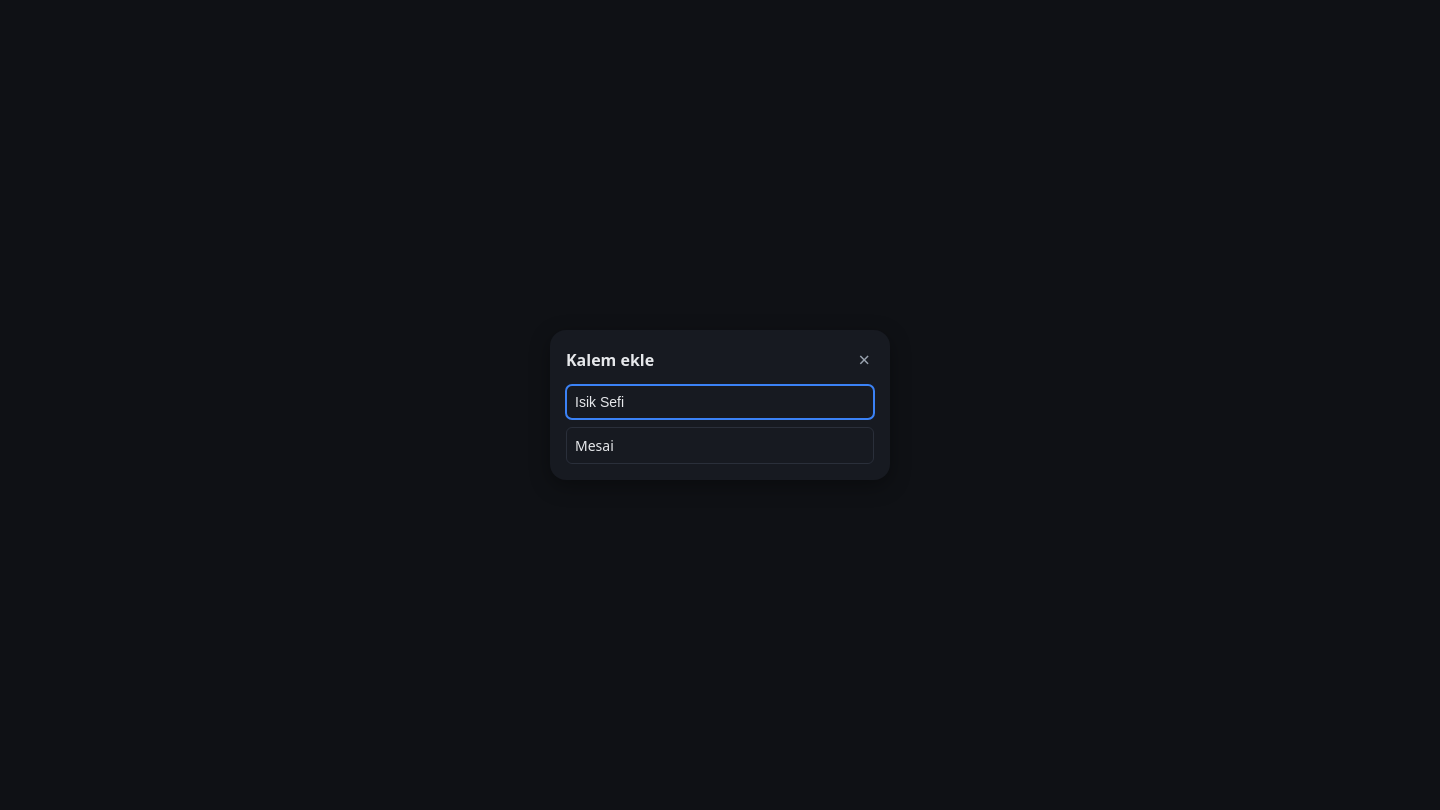
Test: Kime? zimba (1500 Dilim 2a-3b) › asksPerson secenegi bos kisi listesinde eski metni gosterir
Click the button "Mesai": x=594, y=446 [567, 428, 873, 463]
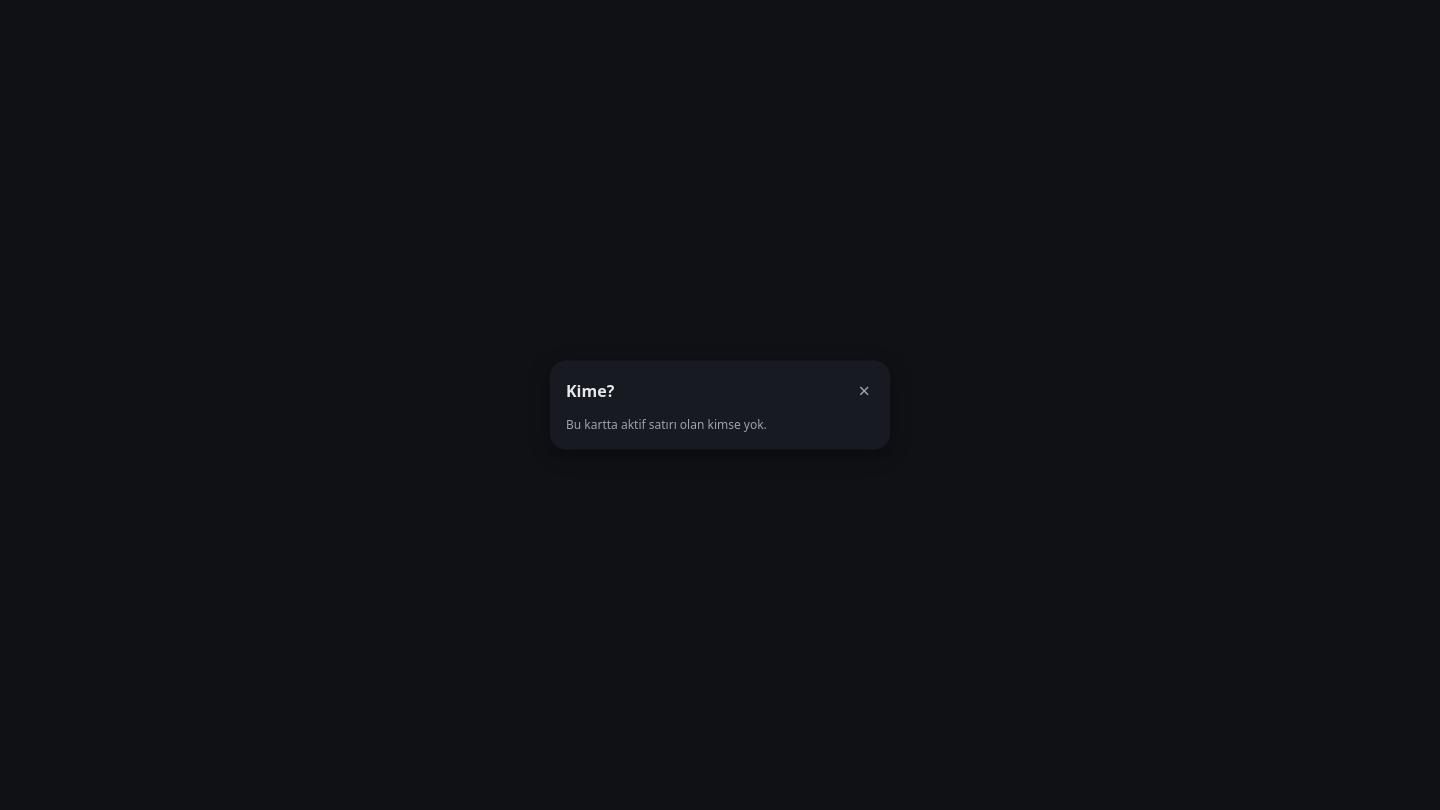
Result: the dialog shows "Bu kartta aktif satırı olan kimse yok." at [566, 416, 767, 432]
